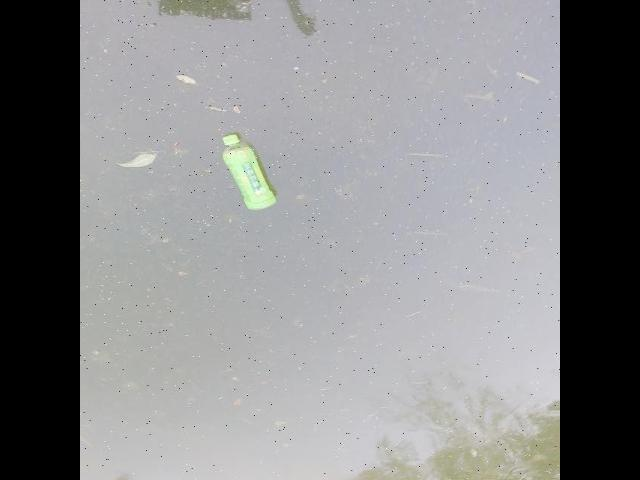Bottle: (219, 128, 283, 216)
